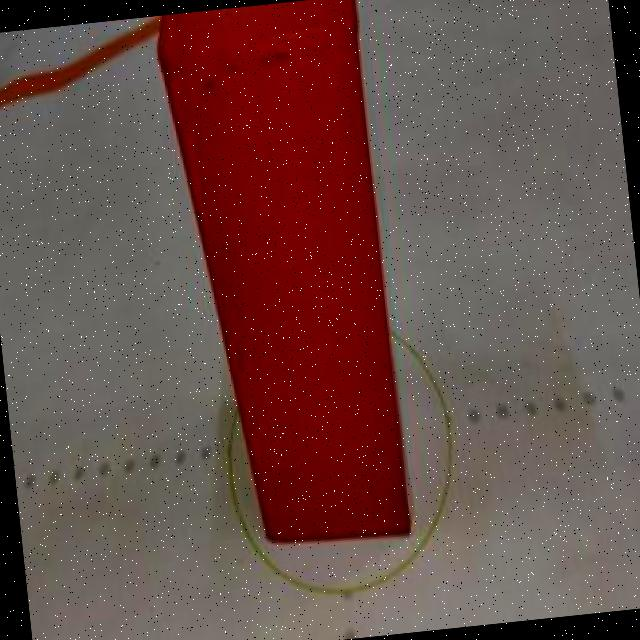redbox: (150, 0, 418, 556)
